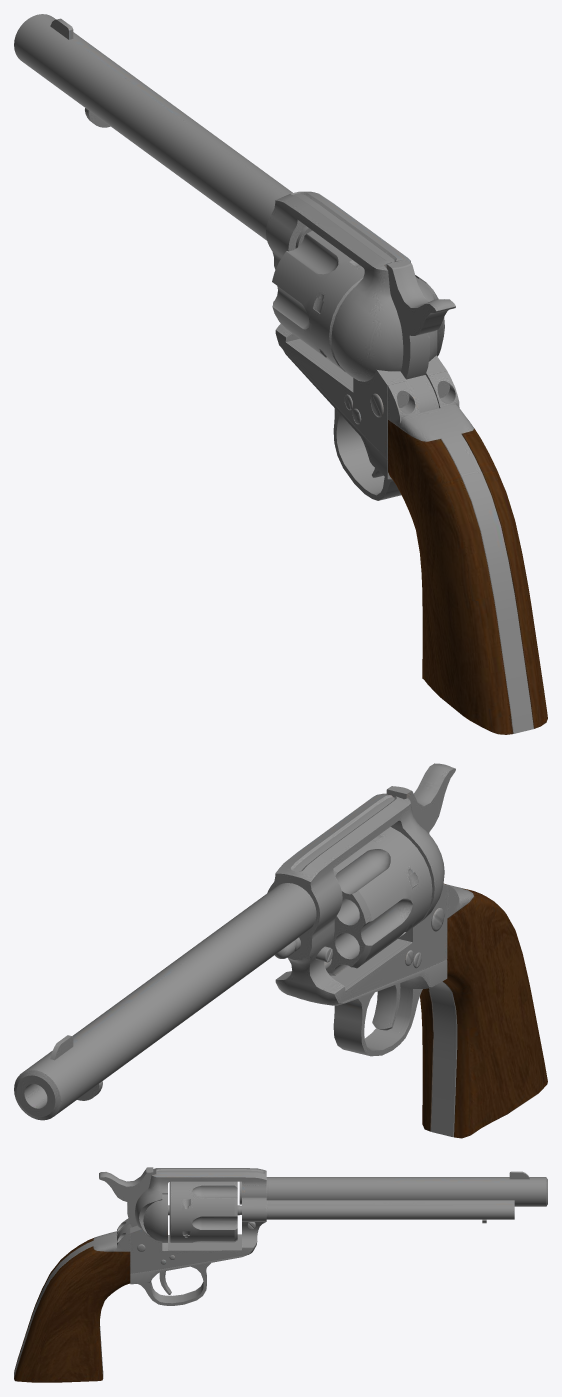
The model's file is revolver.glb.
3 renders of one model, top to bottom at view 1: azimuth 30°, elevation 25°; view 2: azimuth 150°, elevation 25°; view 3: azimuth 270°, elevation 25°, orthographic. The views are drawn at different scales.
Bounding box in the file's own units: 0.0491 × 0.1711 × 0.3976.
1 material, 1 textured.
